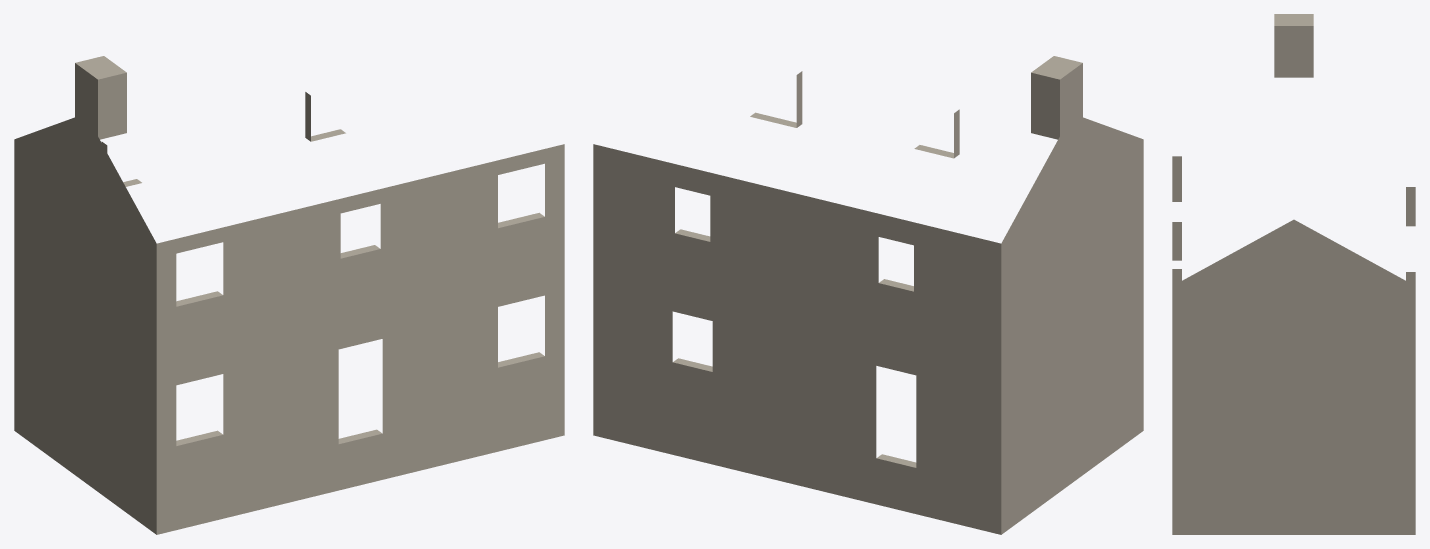
The model's file is SM_Bld_214_Render.glb.
3 views of the same model, side by side, from view 1: azimuth 30°, elevation 25°; view 2: azimuth 150°, elevation 25°; view 3: azimuth 270°, elevation 25° (orthographic). The views are drawn at different scales.
Visible parts, largest first — view 1: SM_Bld_214_Render; view 2: SM_Bld_214_Render; view 3: SM_Bld_214_Render.
Part boxes in pixels (left/top/right/bottom): SM_Bld_214_Render: left=14, top=56, right=564, bottom=534; SM_Bld_214_Render: left=593, top=56, right=1143, bottom=534; SM_Bld_214_Render: left=1172, top=14, right=1415, bottom=534.
Bounding box in the file's own units: 9.23 × 8.89 × 5.58.
